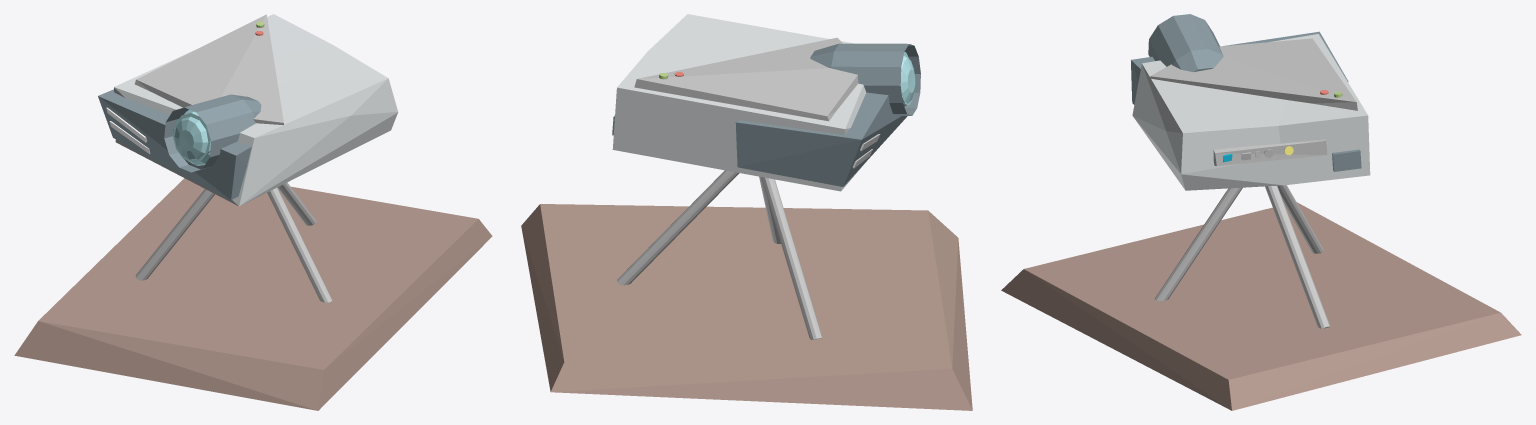
The picture shows the model from 3 angles, left to right: view 1: azimuth 30°, elevation 25°; view 2: azimuth 150°, elevation 25°; view 3: azimuth 270°, elevation 25°; orthographic projection. The views are drawn at different scales.
Visible parts, largest first — view 1: group489012986, group438710673; view 2: group489012986, group438710673; view 3: group489012986, group438710673.
Part boxes in pixels (bbox=[...]): group489012986: bbox=[14, 178, 492, 410]; group438710673: bbox=[98, 14, 398, 302]; group489012986: bbox=[521, 204, 972, 410]; group438710673: bbox=[612, 14, 920, 340]; group489012986: bbox=[1001, 202, 1521, 410]; group438710673: bbox=[1131, 14, 1370, 328].
Size of the model in its own units: 0.5648 by 0.3149 by 0.5547.
